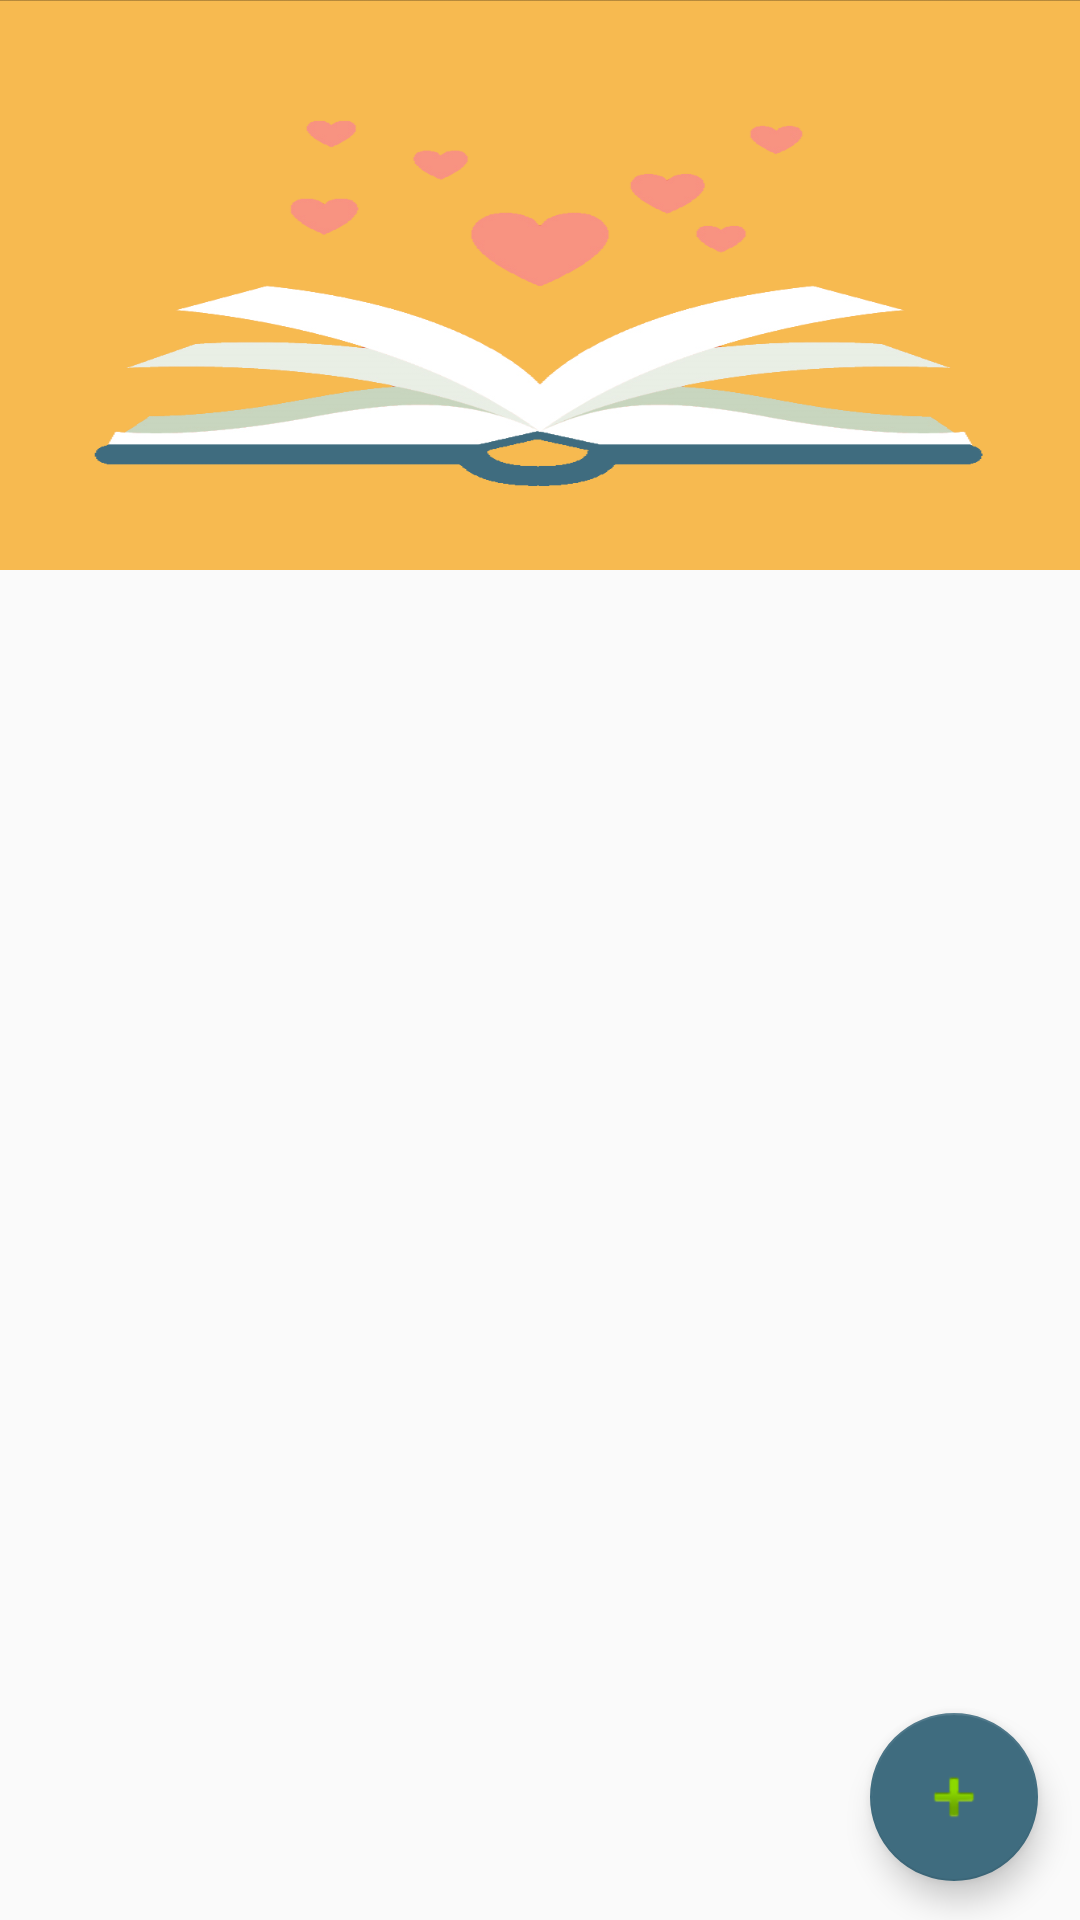

Icons on this 1080×1920 Android screen, each with its box as (x1, y1, x2, y2):
add: (870, 1713, 1038, 1881)
